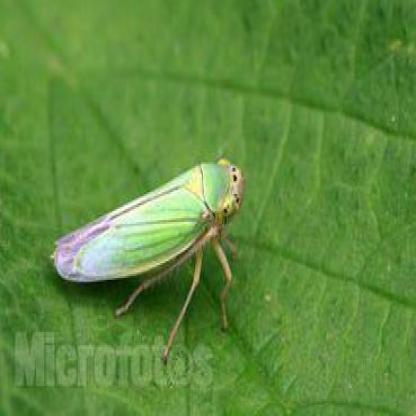Green-Leafhopper: (46, 155, 249, 358)
